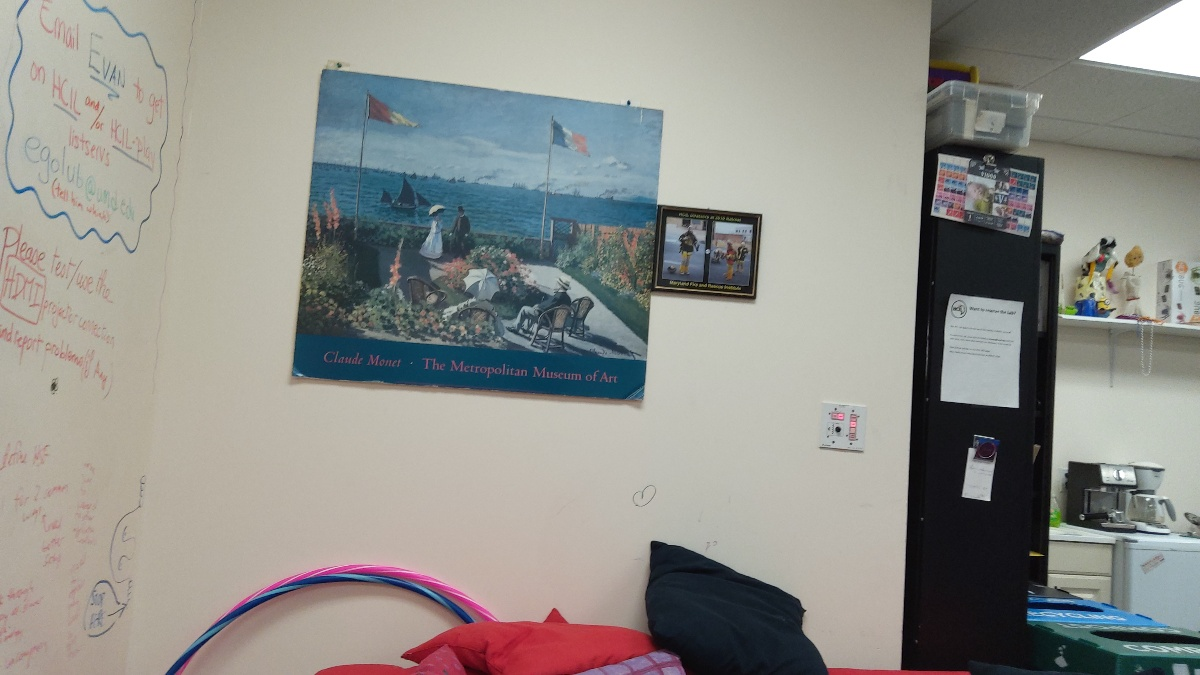poster: (286, 58, 668, 412)
